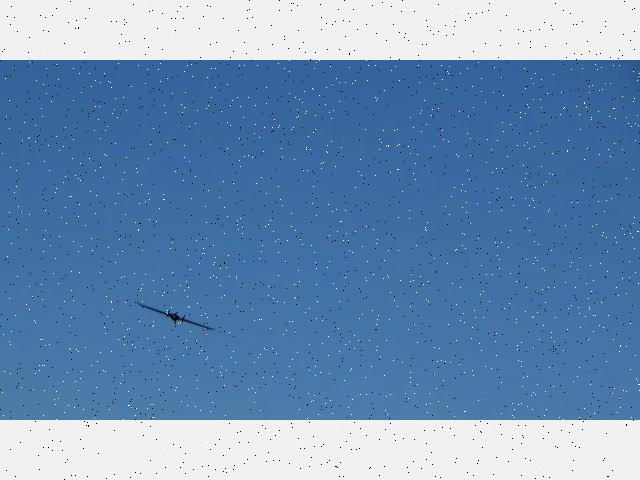Anti-Drone: (133, 287, 219, 340)
